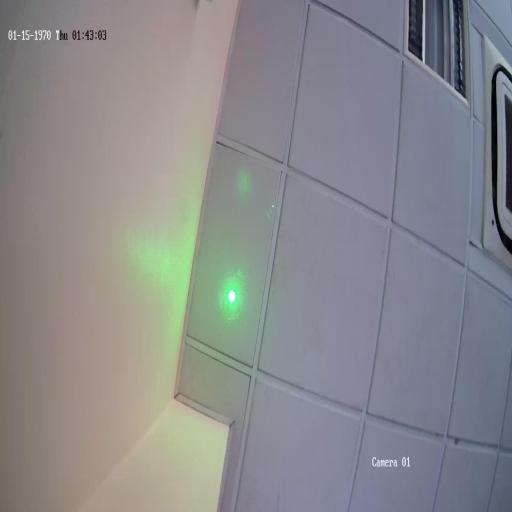laser: (226, 284, 240, 308)
